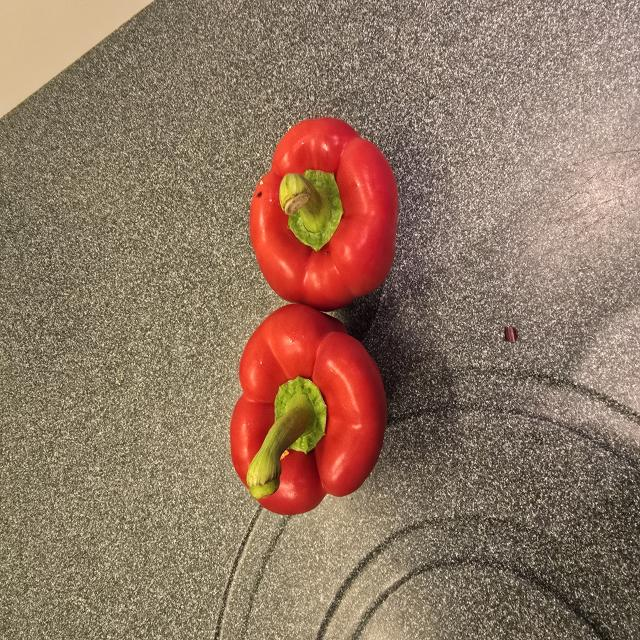Bell Pepper: (226, 301, 393, 520), (246, 110, 406, 315)
